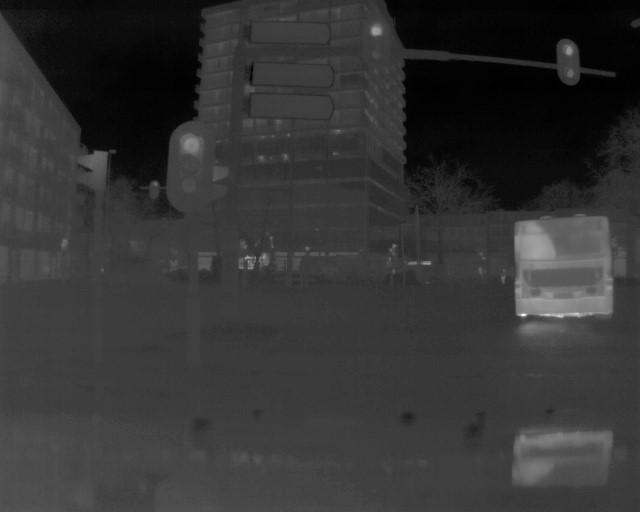car: (506, 206, 619, 328)
